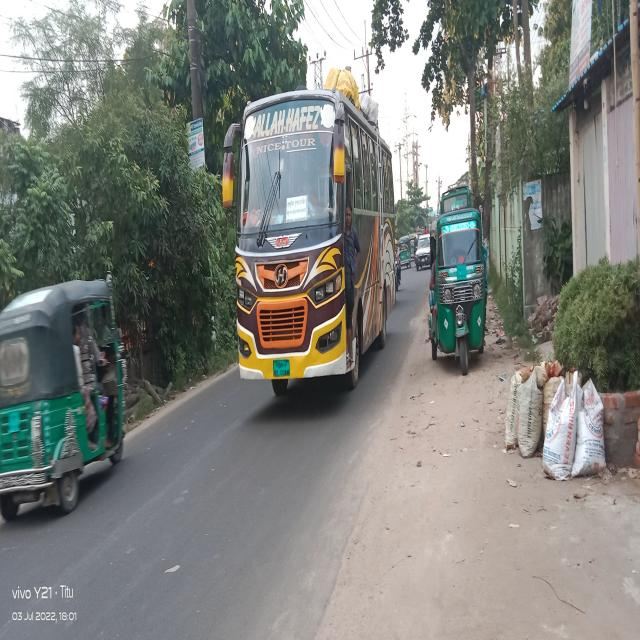bus: (221, 58, 410, 402)
